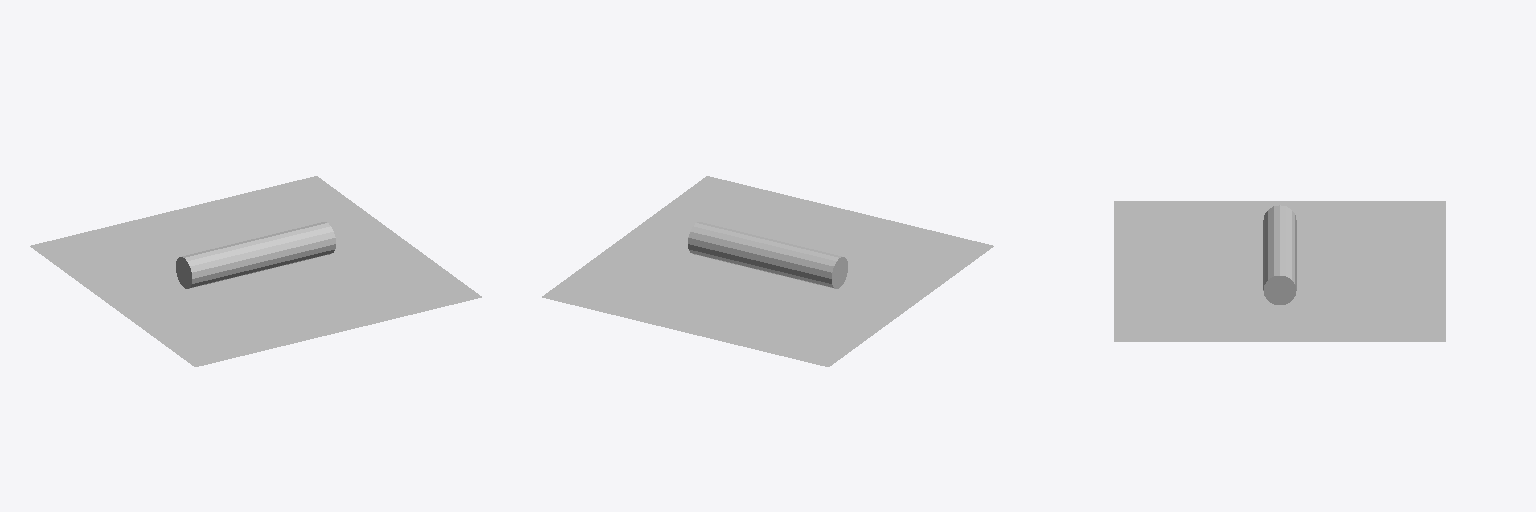
The model's file is plane_with_log.obj.
The picture shows the model from 3 angles: view 1: azimuth 30°, elevation 25°; view 2: azimuth 150°, elevation 25°; view 3: azimuth 270°, elevation 25°; orthographic projection.
Visible parts, largest first — view 1: Plane, Cylinder; view 2: Plane, Cylinder; view 3: Plane, Cylinder.
Part boxes in pixels (x1,y1,x2,y2): Plane: (30,176,481,366); Cylinder: (176,222,335,288); Plane: (542,176,993,366); Cylinder: (688,222,847,288); Plane: (1114,201,1445,341); Cylinder: (1263,205,1296,304).
Size of the model in its own units: 4 by 0.4161 by 4.